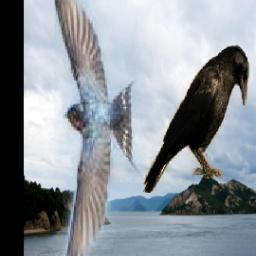Crow: (143, 45, 249, 194)
Swallow: (53, 0, 145, 256)
